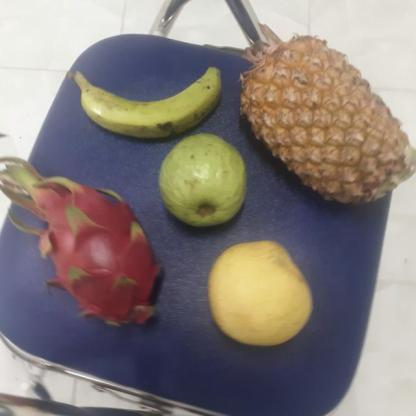banana: (82, 64, 225, 138)
guava: (158, 134, 250, 227)
pear: (202, 239, 318, 348)
pineapple: (246, 37, 416, 211)
pitaya: (9, 181, 172, 329)
